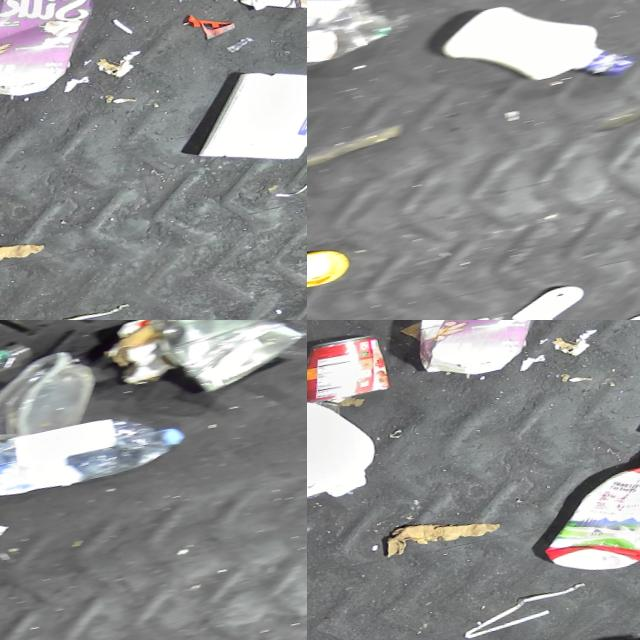can: (145, 320, 307, 402), (307, 324, 414, 418)
milk_jug: (307, 376, 402, 514), (0, 344, 110, 453)
non_white_jug: (0, 0, 125, 107)
plastic_bottle: (0, 401, 195, 506), (0, 337, 51, 456)
